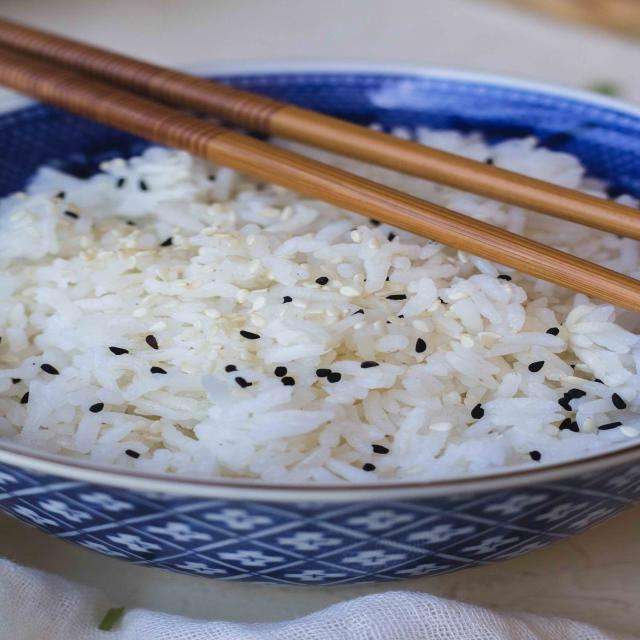rice: (5, 116, 640, 491)
